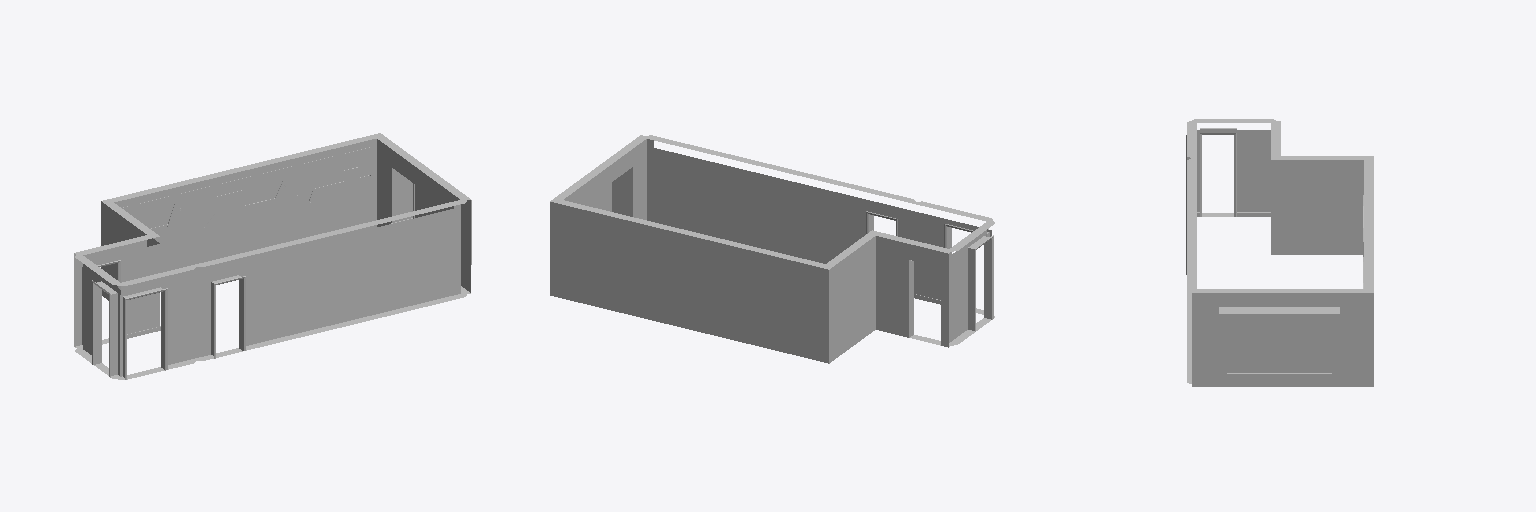
File: LivingDiningRoom-5782w.obj
3 views of the same model, side by side, from view 1: azimuth 30°, elevation 25°; view 2: azimuth 150°, elevation 25°; view 3: azimuth 270°, elevation 25° (orthographic).
Bounding box in the file's own units: 10.77 × 2.6 × 4.7.